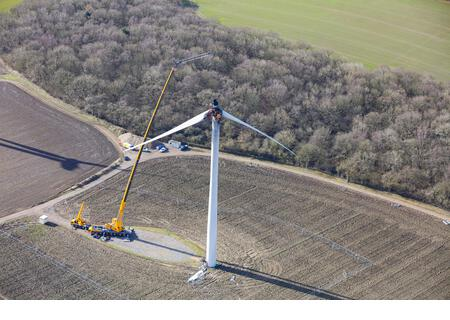faulty: (179, 85, 237, 262)
